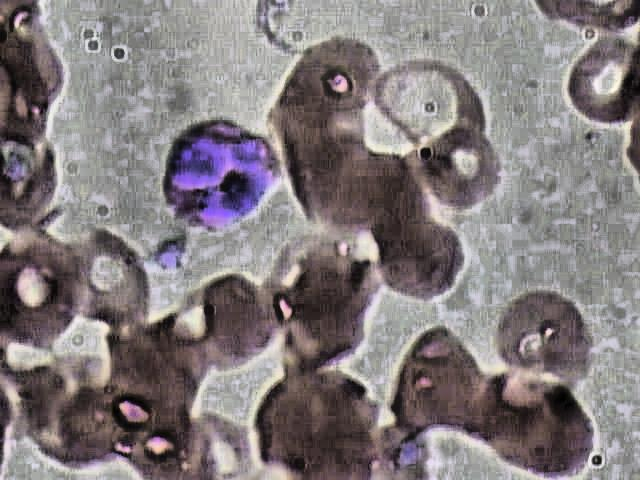Platelets: (140, 230, 191, 278)
RBC: (453, 372, 594, 479), (246, 365, 377, 479), (368, 50, 495, 165), (261, 33, 388, 148), (486, 284, 599, 399), (378, 316, 485, 436), (1, 213, 87, 356), (180, 269, 278, 376), (58, 231, 156, 338), (279, 137, 377, 244), (282, 246, 380, 353), (41, 372, 139, 479), (369, 217, 480, 309), (153, 402, 254, 479), (423, 124, 507, 215), (556, 42, 639, 133), (1, 129, 68, 239)
WBC: (156, 117, 292, 232)
